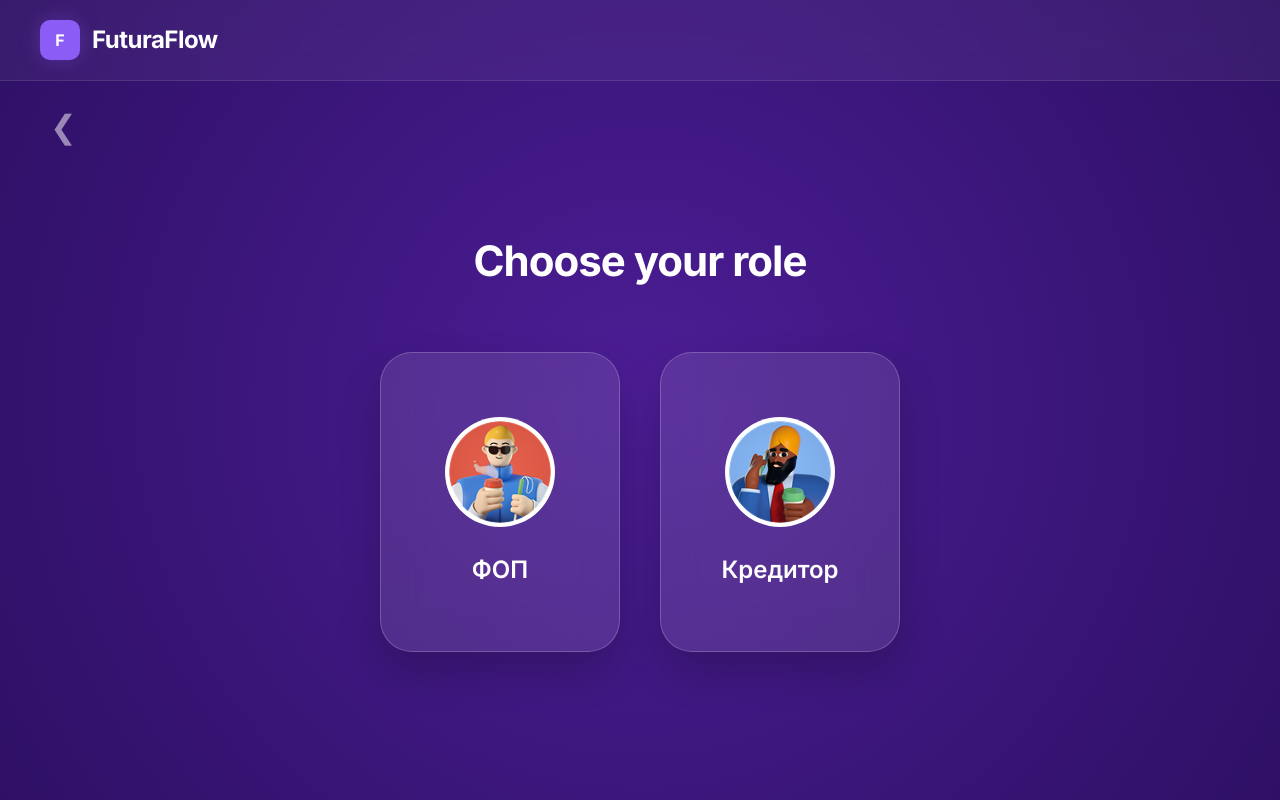
Test: ChooseRole — role selection screen › navigates back to role selection when back button is clicked on form
The width and height of the screenshot is (1280, 800).
Select role to show form
Click the button "ФОП" at (500, 502), box [380,352,620,652]
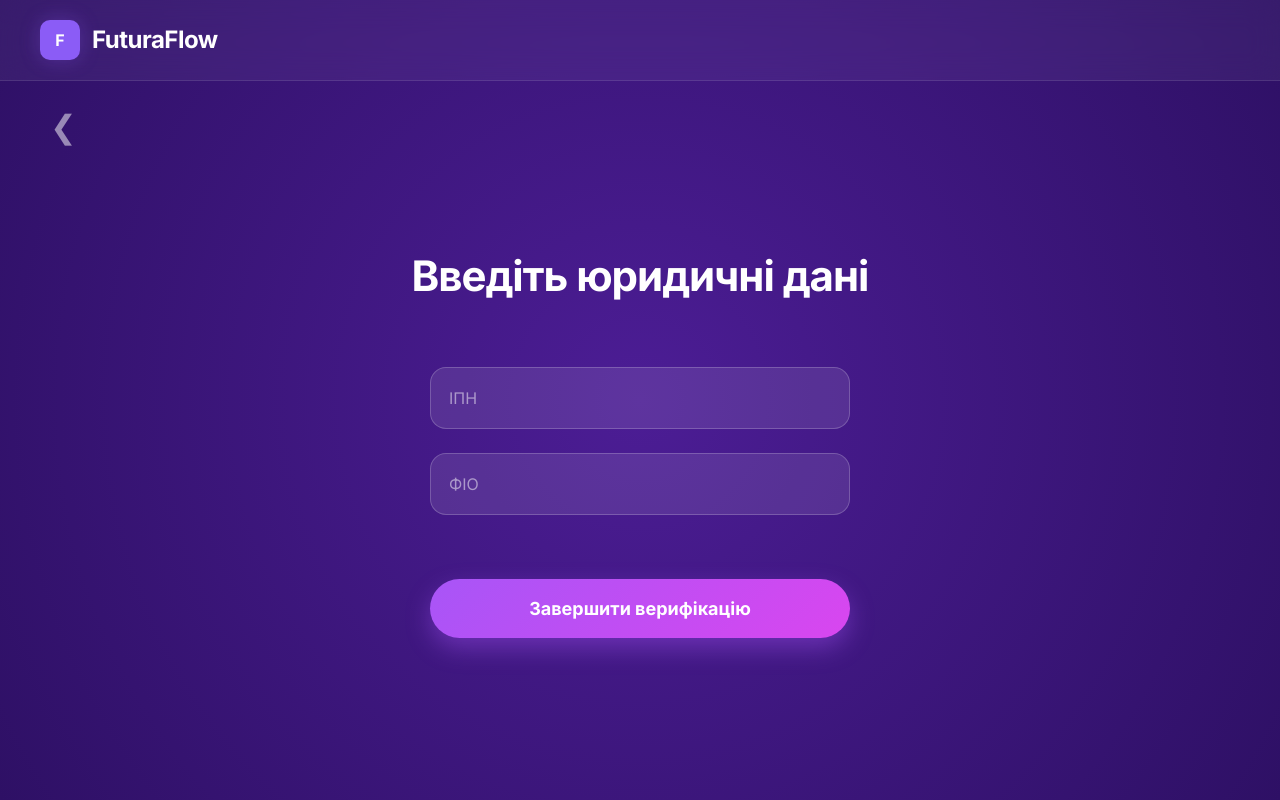
Expected: the heading "Введіть юридичні дані" is shown, [412,244,868,306]
Click back button
Click the button with class "back-btn" at (63, 127), box [40,101,87,153]
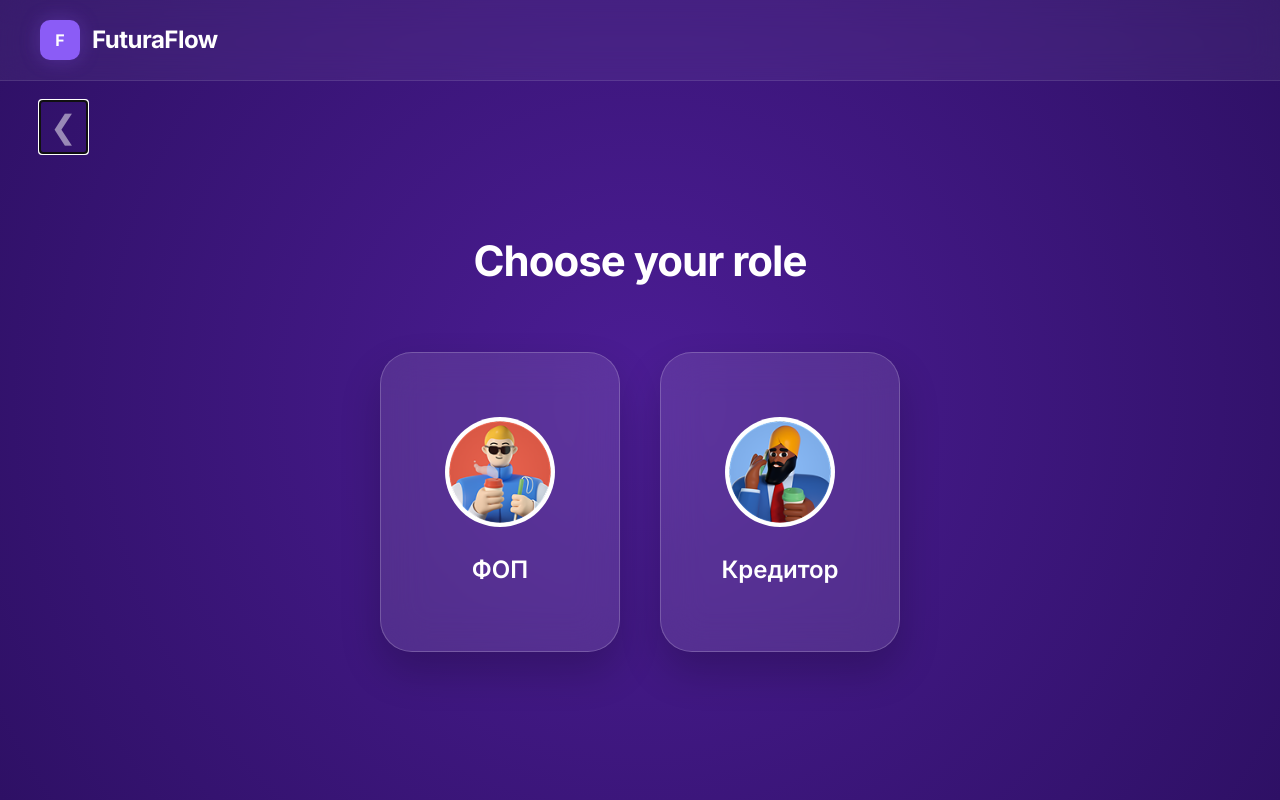
Expected: the heading "Choose your role" is shown, [474,229,806,292]
